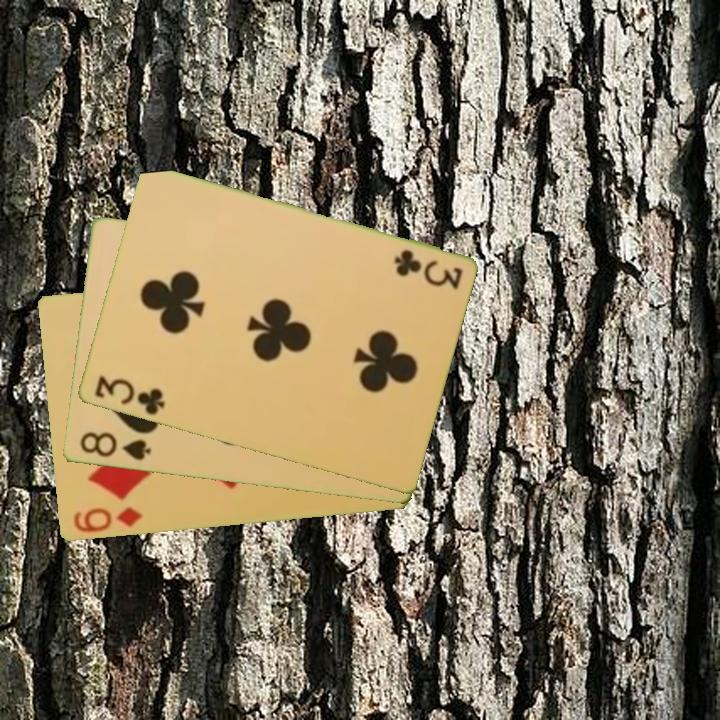3c: (90, 372, 168, 419), (390, 246, 465, 291)
6d: (69, 504, 145, 536)
8s: (76, 428, 153, 464)
